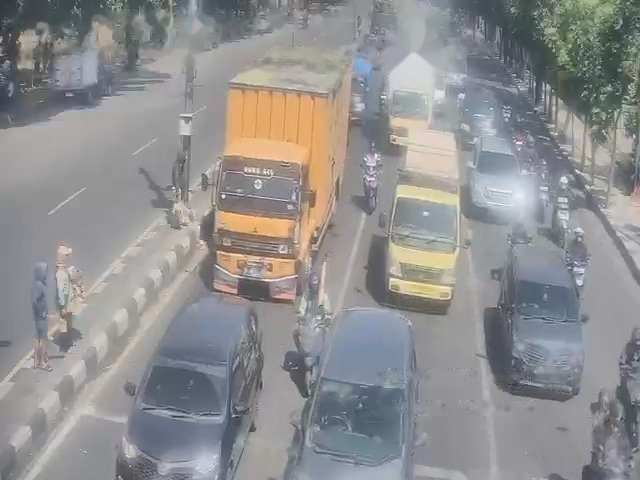Mobil: (130, 296, 252, 476), (308, 311, 410, 480), (507, 242, 580, 395), (474, 137, 519, 207), (350, 78, 366, 122)
Motor: (286, 263, 331, 397), (619, 367, 639, 445), (360, 143, 381, 212), (538, 159, 549, 222), (567, 258, 587, 292), (558, 197, 569, 237), (513, 134, 524, 151), (502, 104, 510, 122)
Truk: (212, 40, 347, 299), (385, 128, 463, 314), (384, 52, 437, 147)
